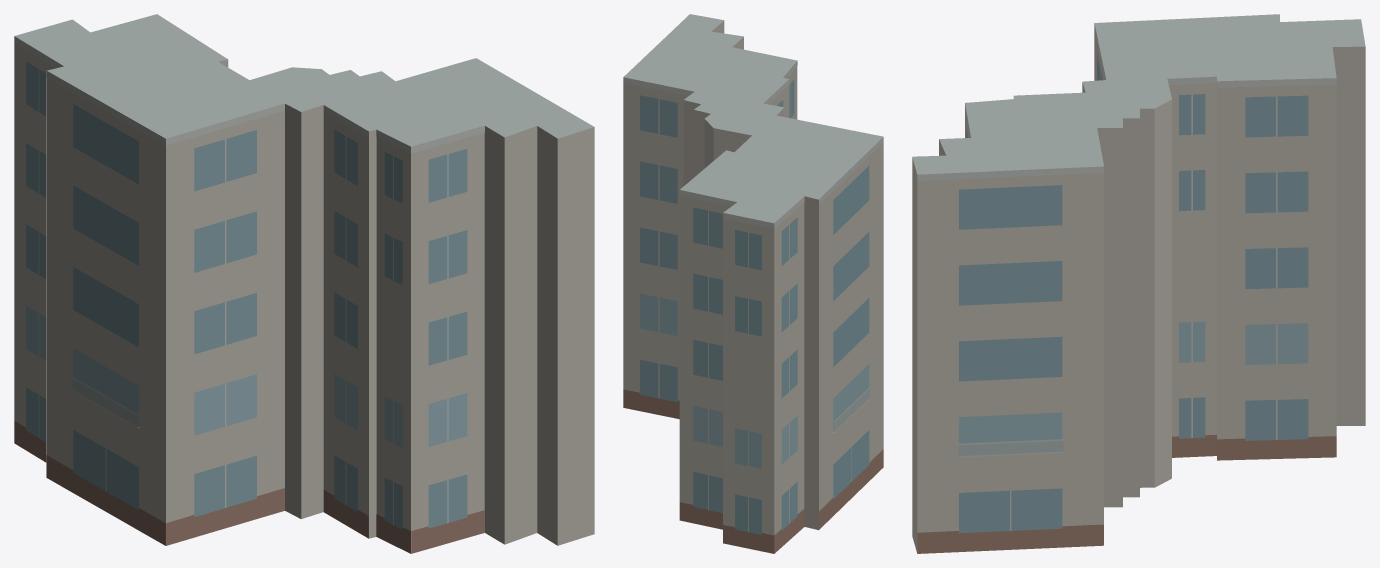
File: survey-upis-32751522.glb
3 renders of one model, left to right at view 1: azimuth 30°, elevation 25°; view 2: azimuth 150°, elevation 25°; view 3: azimuth 270°, elevation 25°, orthographic. The views are drawn at different scales.
Visible parts, largest first — view 1: survey-upis-32751522.tmp; view 2: survey-upis-32751522.tmp; view 3: survey-upis-32751522.tmp.
Part boxes in pixels (<box>): survey-upis-32751522.tmp: <box>14,14,594,553</box>; survey-upis-32751522.tmp: <box>623,14,883,553</box>; survey-upis-32751522.tmp: <box>912,14,1365,553</box>.
Size of the model in its own units: 13.09 by 14.4 by 15.61.
